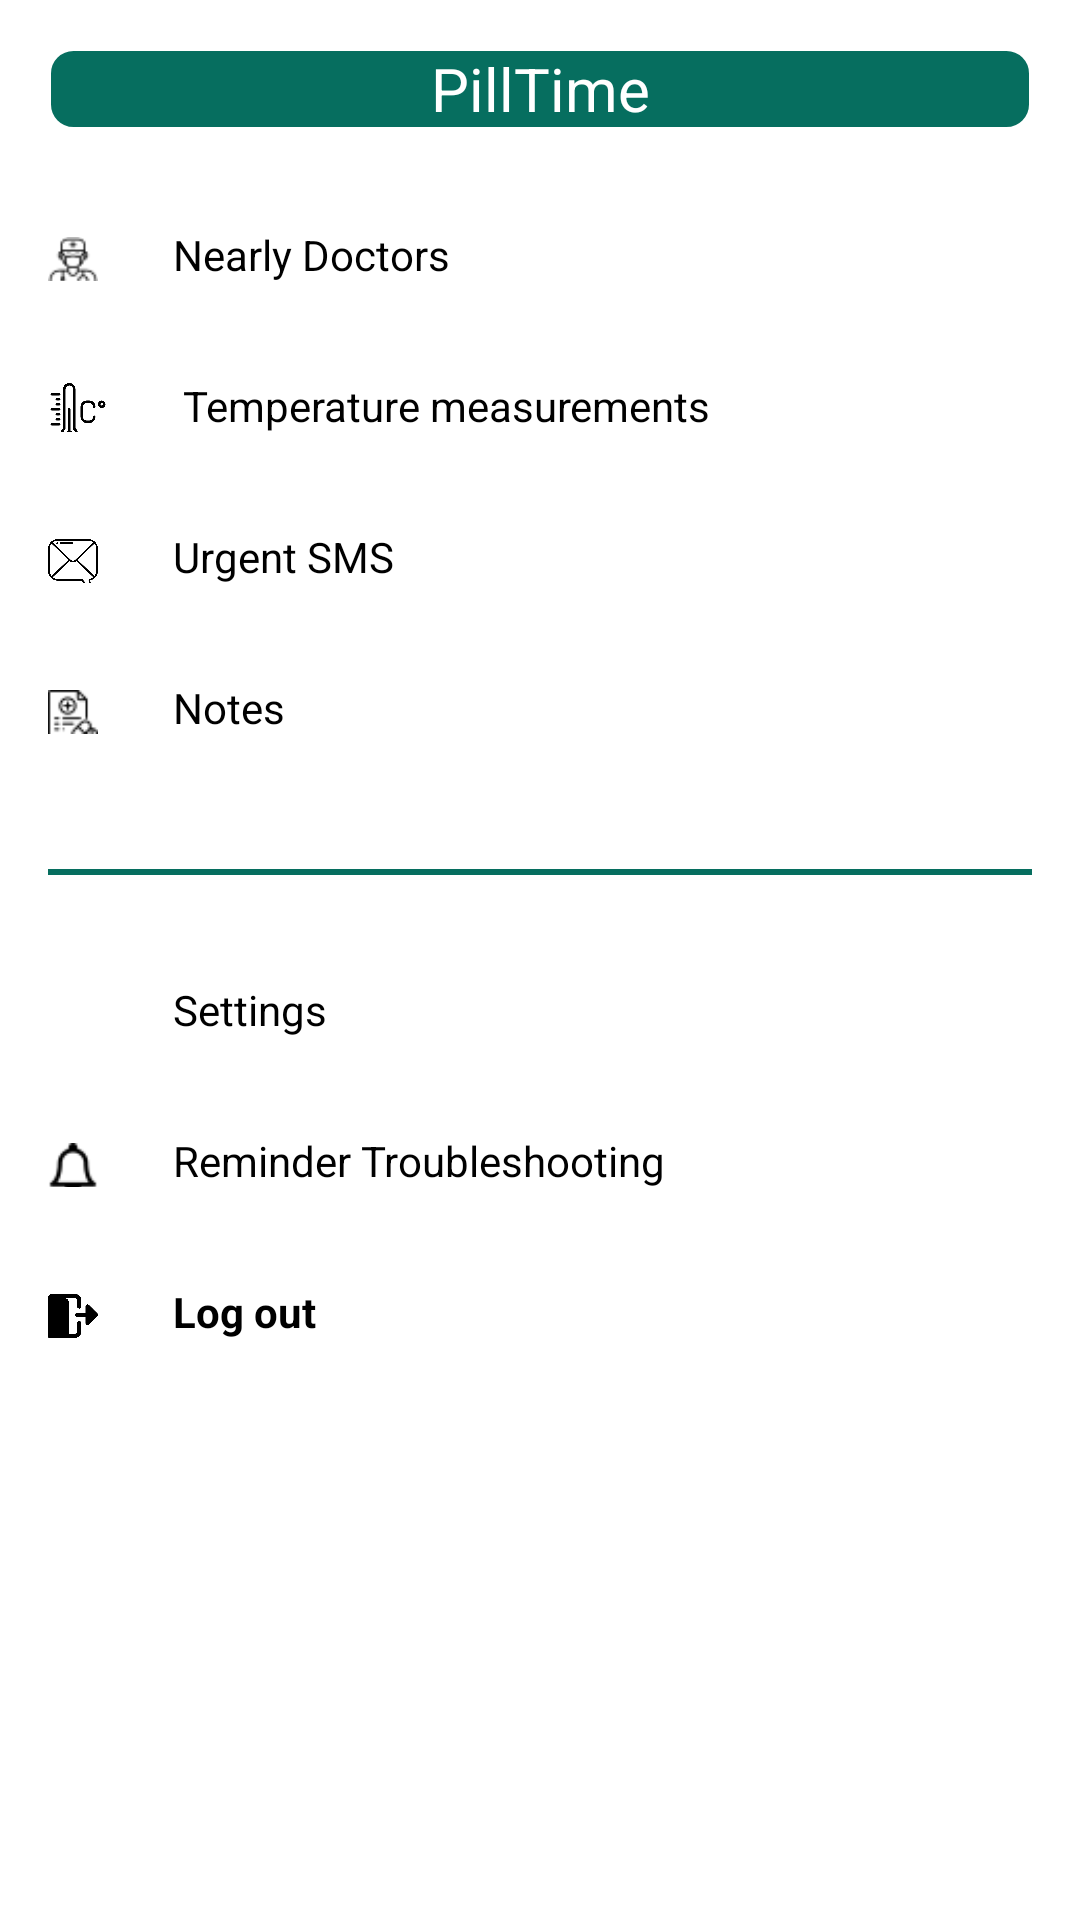

Icon bounding boxes for this 1080 × 1920 phone screenshot, format [x1, y1, x2, y2]:
envelope: [48, 539, 98, 583]
